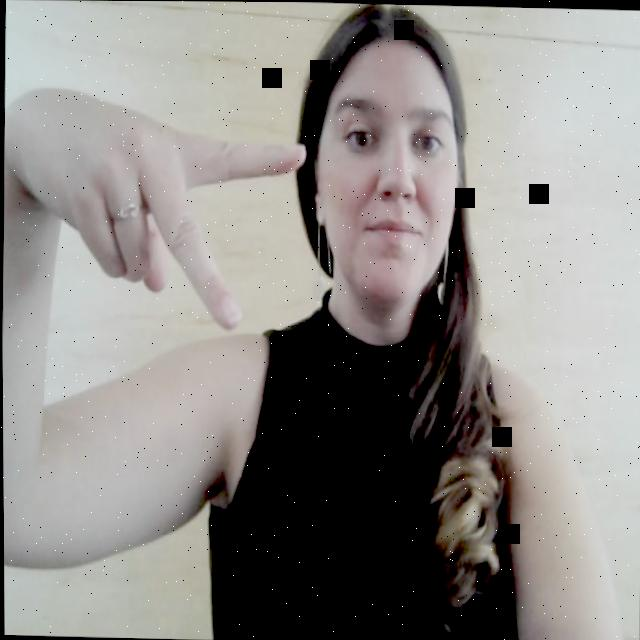Scissors: (13, 84, 308, 344)
